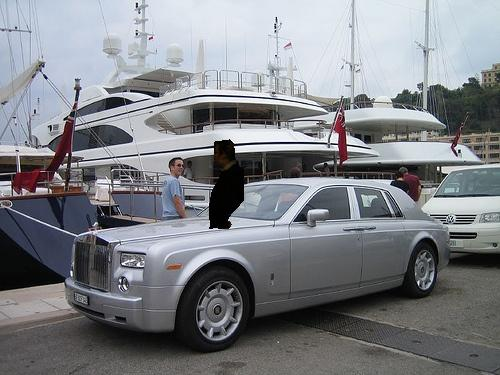tampered: (210, 140, 244, 229)
